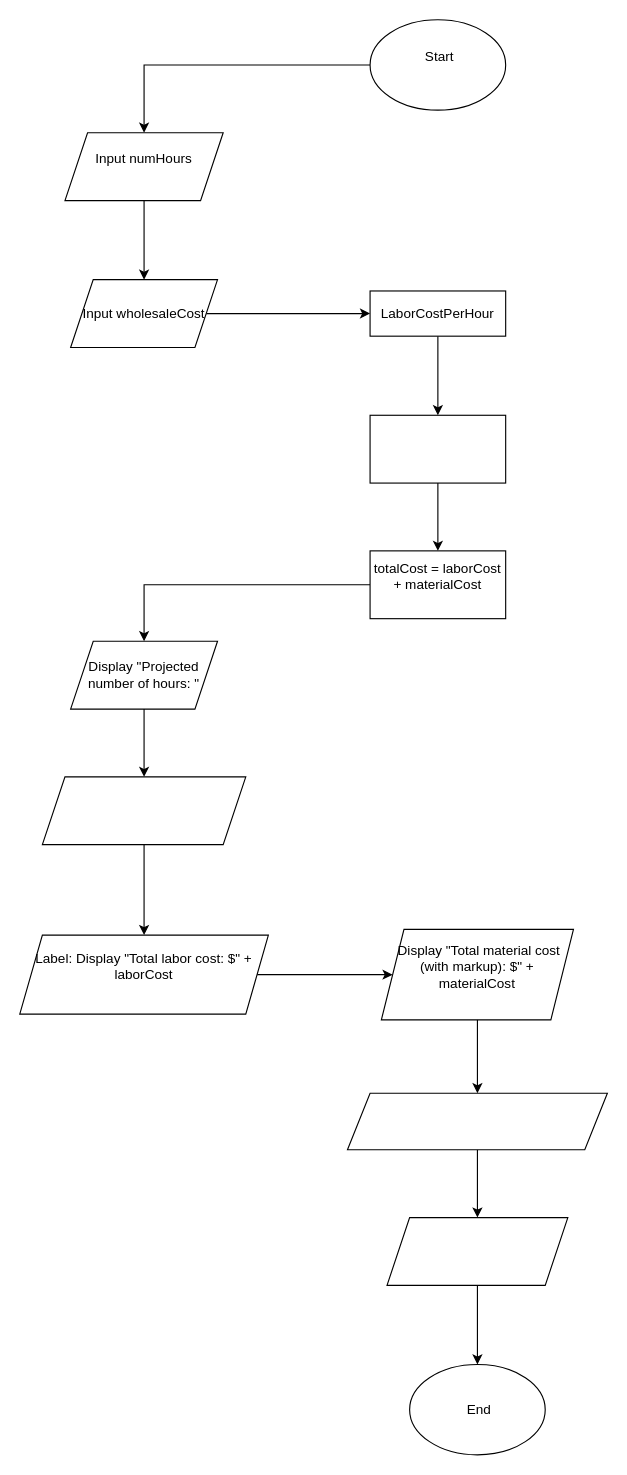
The diagram is 627 pixels wide and 1475 high, and some of its shapes have lost their labels. Here are the shapes that lost their labels. From the top down, the centre of each, then its label:
point 437,448: materialCost = wholesaleCost * materialMarkup
point 143,810: Display "Wholesale cost of materials: $" + wholesaleCost
point 476,1121: Display "Total cost of the job: $" + totalCost
point 477,1250: Display "End of program"
